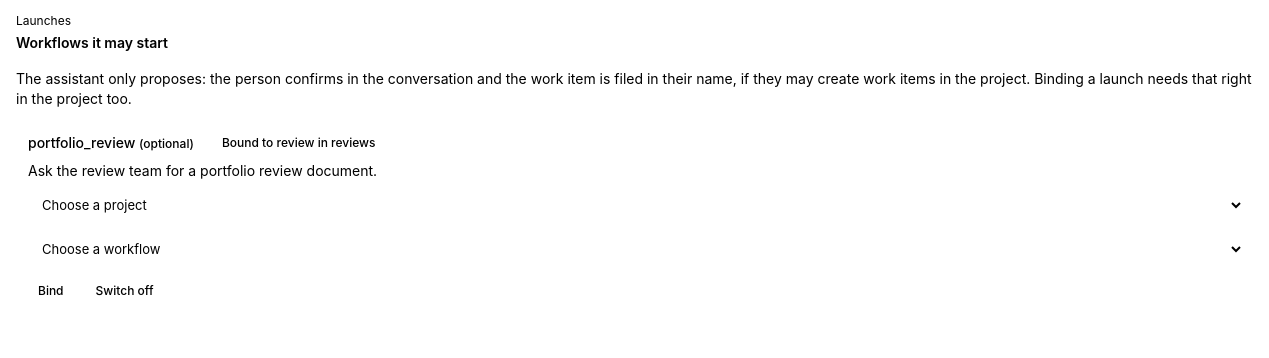
Scenario: the launches of an installation › says where a launch is bound, shows a refusal, and switches an optional one off
The width and height of the screenshot is (1269, 358).
Expected: the text "Bound to review in reviews" is shown, left=222, top=135, right=376, bottom=150
Step 1. Click the button "Switch off" → (124, 291), box left=86, top=277, right=163, bottom=305
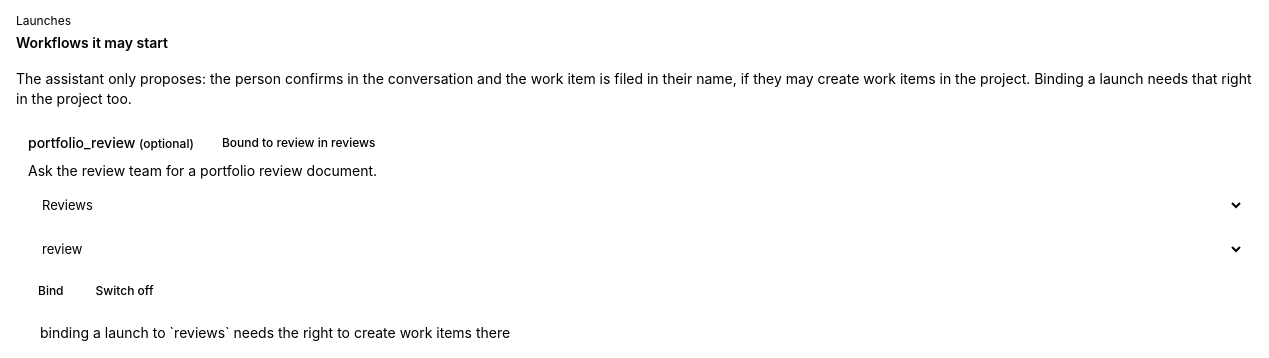
Expected: the text "needs the right to create work items" is shown, left=40, top=324, right=510, bottom=341
